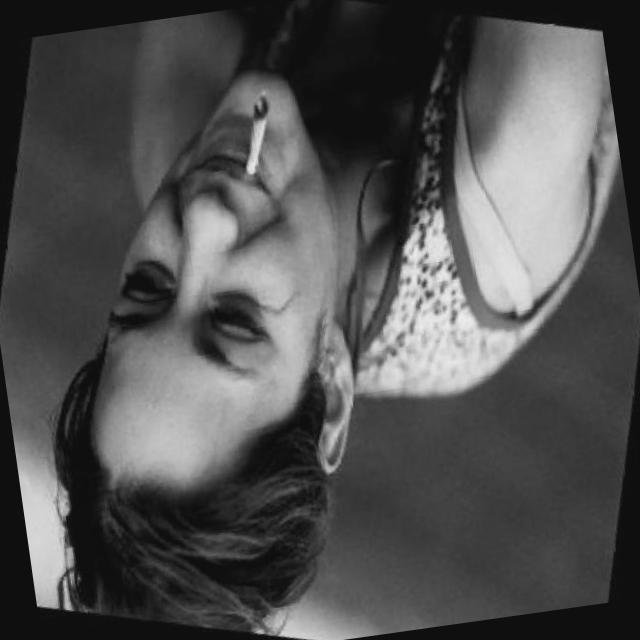cigarette: (228, 88, 285, 182)
